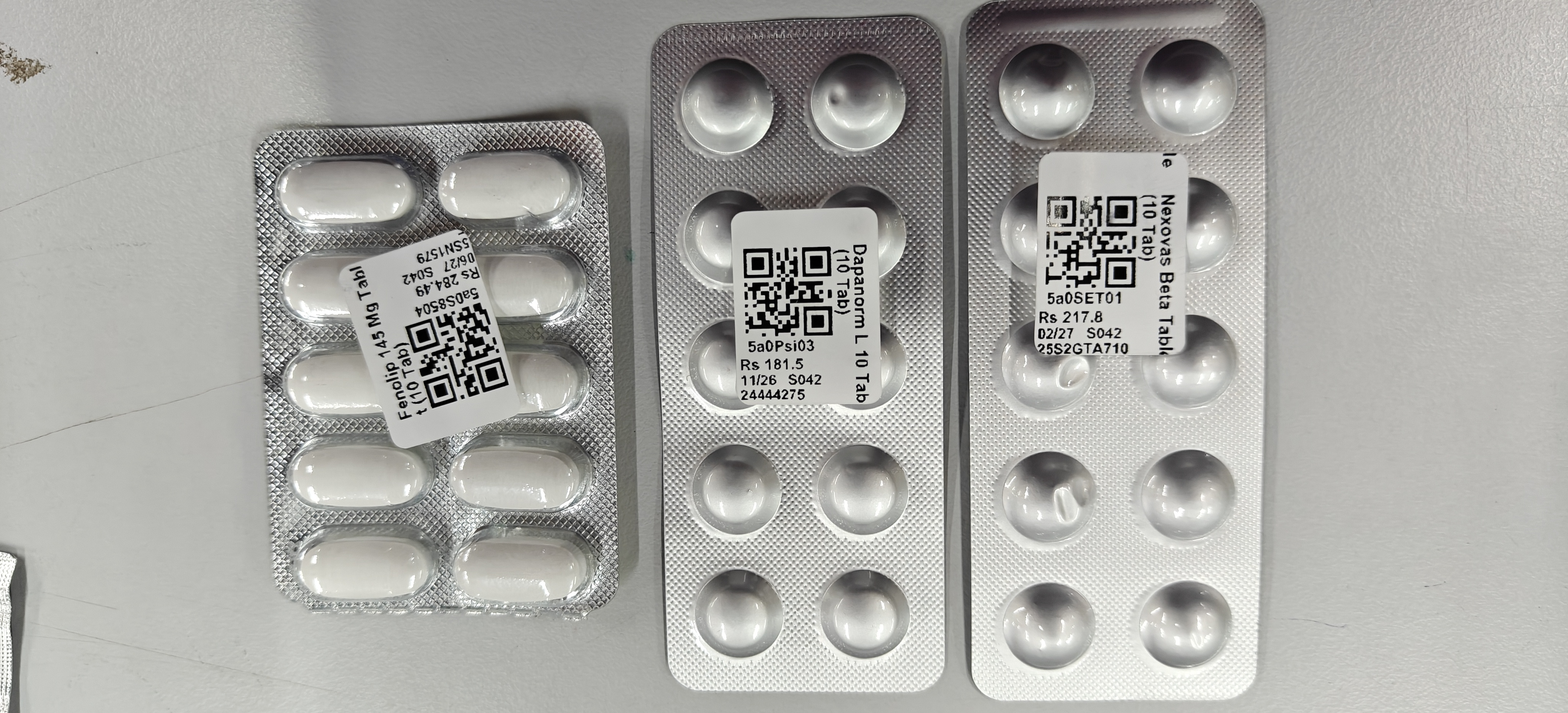qr_code: (403, 300, 509, 409), (743, 247, 833, 337)
